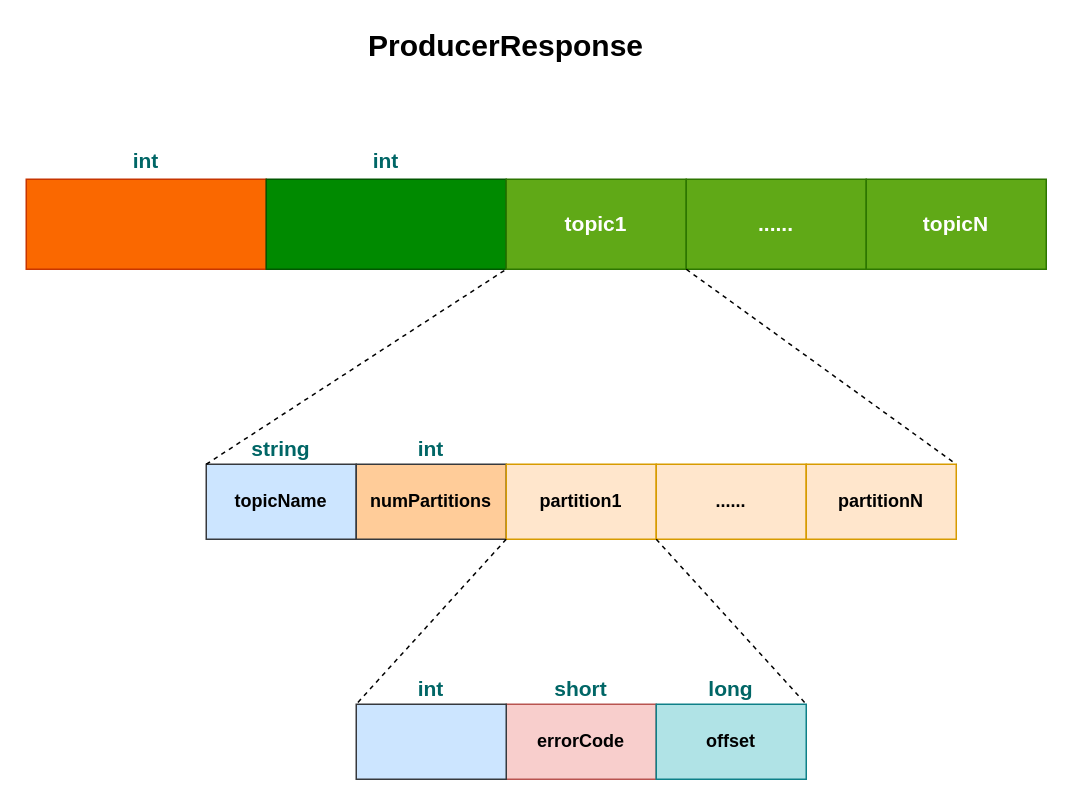
The diagram is 1073 pixels wide and 806 high, and some of its shapes have lost their labels. The shapes that lost their labels are listed below. From the top down, each one's centre as x and y in pixels, then its label:
(x=145, y=223): correlationId
(x=385, y=223): topicCount
(x=430, y=741): partitionId
